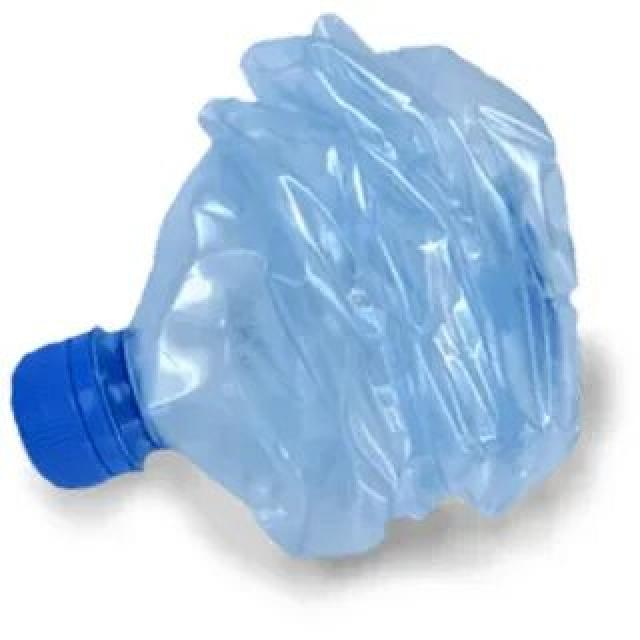blue: (130, 8, 583, 562)
